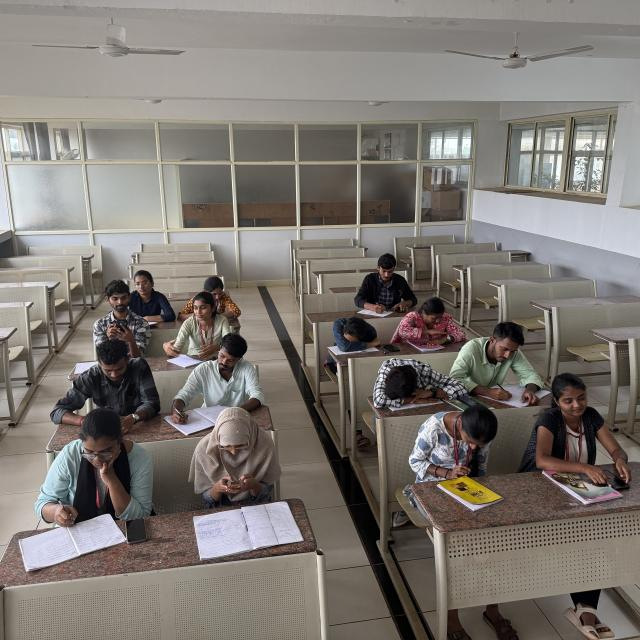Sleeping: (412, 400, 504, 473), (369, 353, 466, 403), (328, 312, 382, 349)
Using Phone: (56, 339, 164, 427), (190, 414, 280, 508), (86, 280, 146, 350)
Writing: (28, 412, 128, 546), (170, 335, 268, 430), (456, 318, 546, 404), (355, 251, 416, 314)
